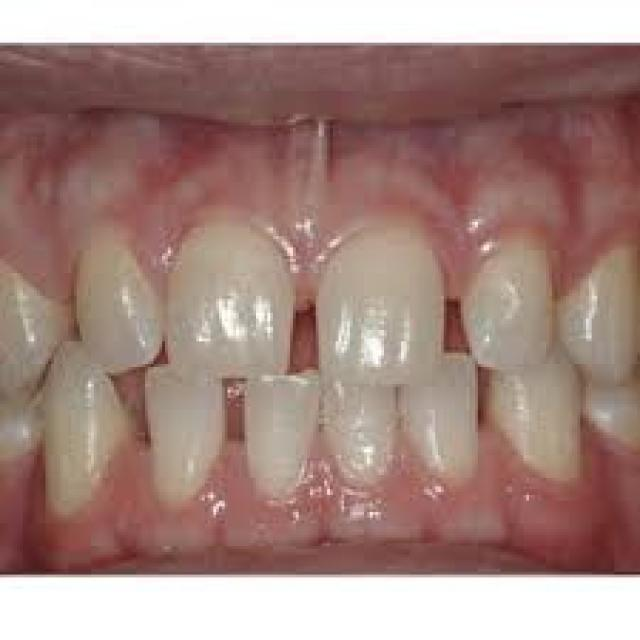Gap: (74, 359, 162, 474), (259, 277, 348, 372), (460, 361, 524, 470), (421, 277, 492, 357), (200, 373, 259, 469)
